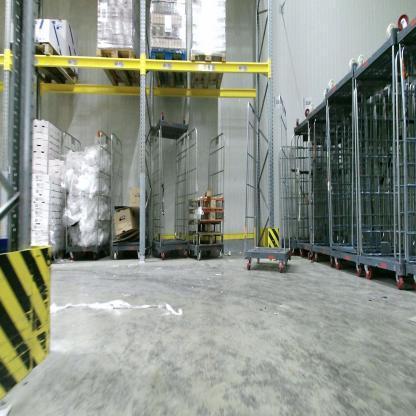pallets: (93, 41, 235, 93), (19, 36, 81, 88)
